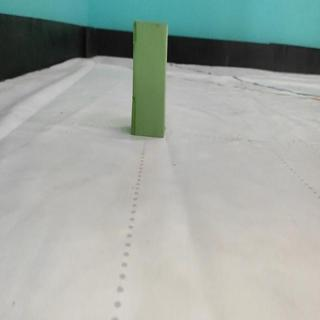greenbox: (129, 19, 169, 138)
